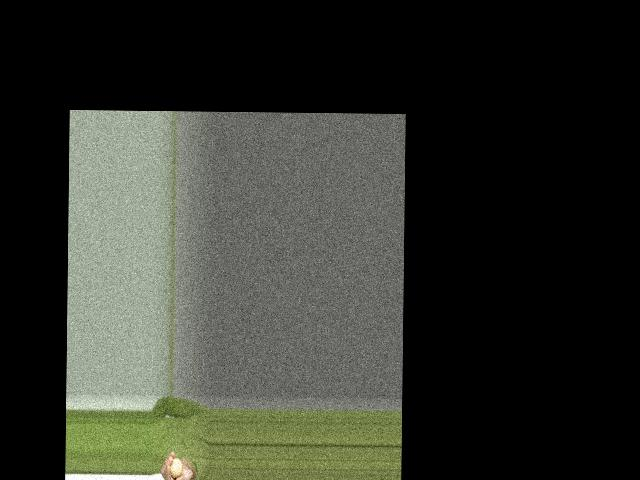egg: (169, 457, 182, 478)
